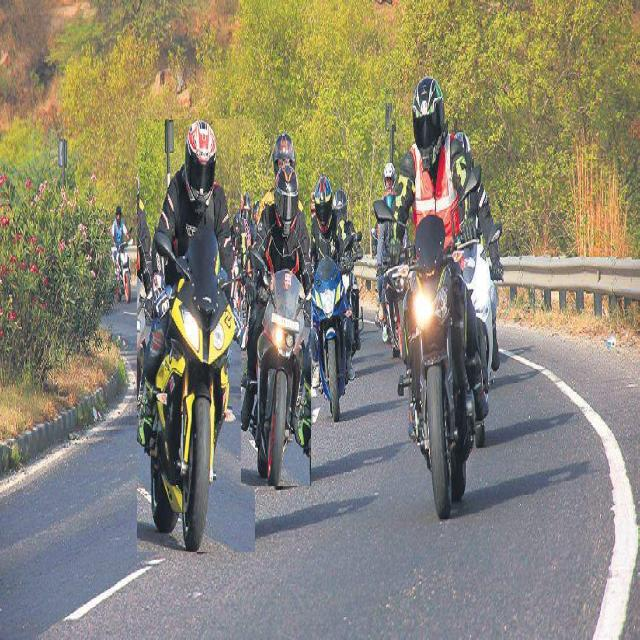motorcycle: (138, 120, 255, 552), (375, 76, 489, 519), (241, 134, 311, 486), (304, 174, 355, 422)
